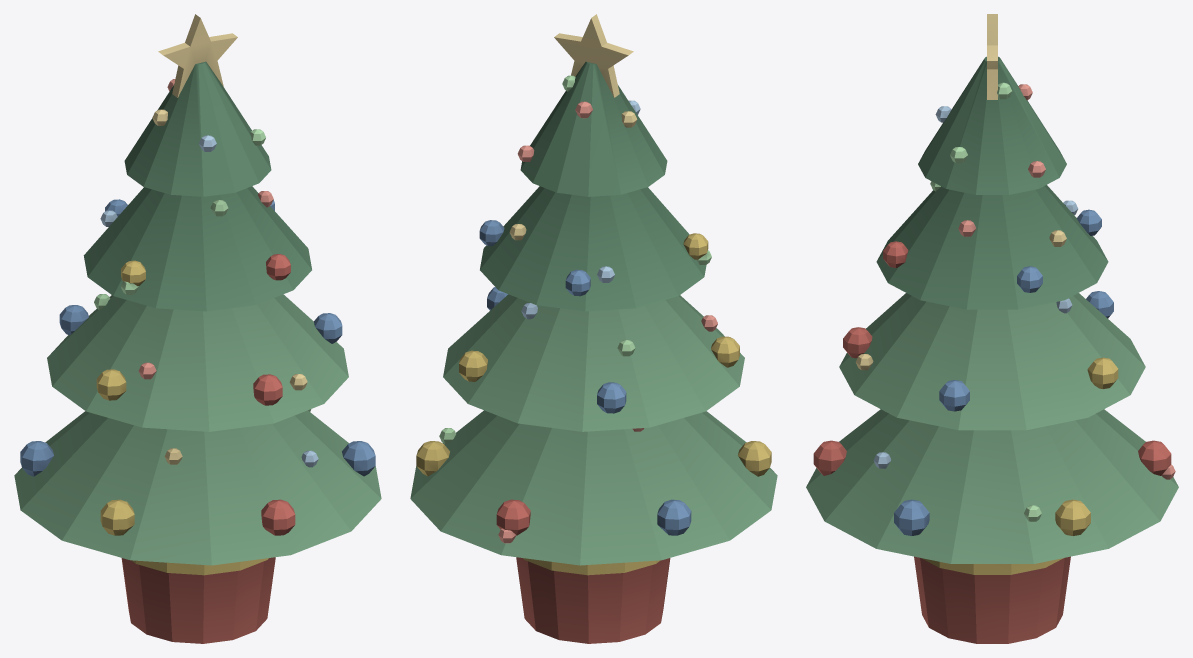
Rendered from xmas_tree_small.glb.
The picture shows the model from 3 angles, left to right: view 1: azimuth 30°, elevation 25°; view 2: azimuth 150°, elevation 25°; view 3: azimuth 270°, elevation 25°; orthographic projection.
Bounding box in the file's own units: 0.8774 × 1.6 × 0.9.
